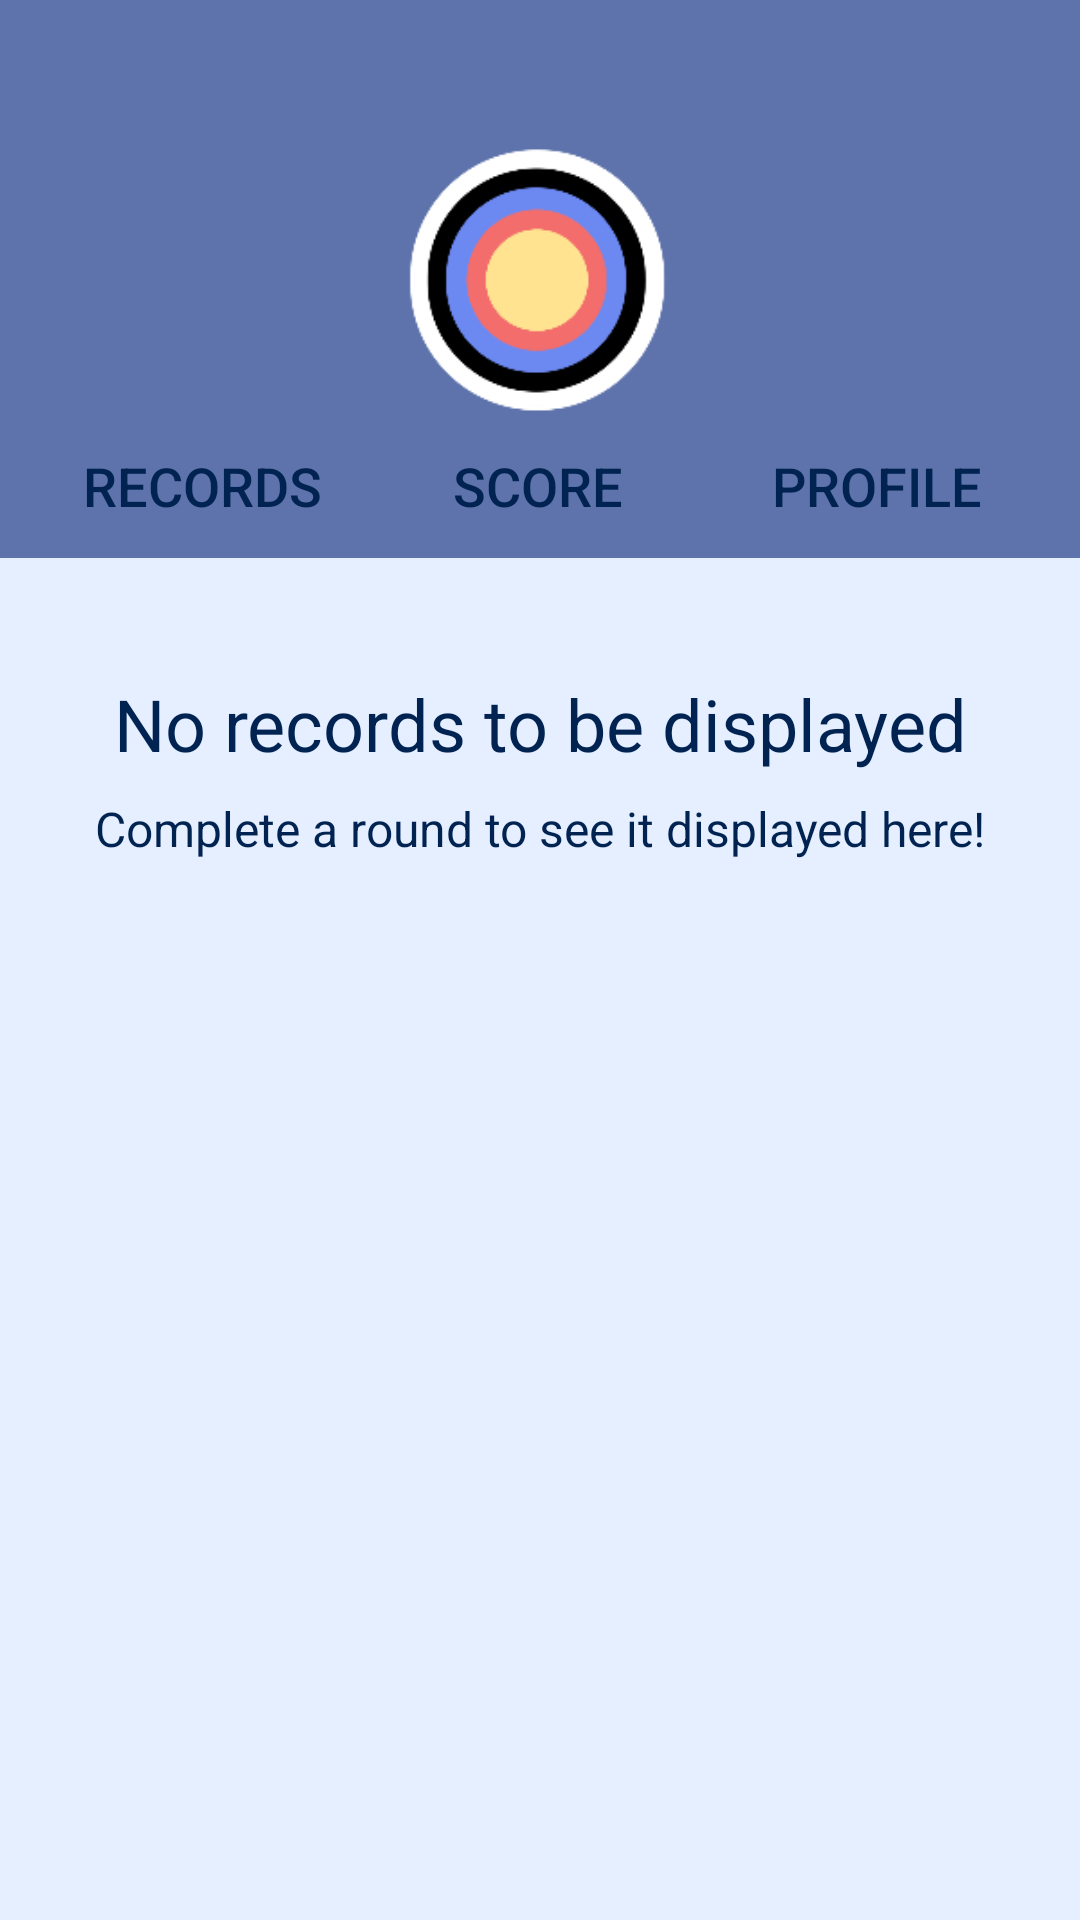

Named icons in this screenshot (1080w x 1920h) and their bounding boxes, (x1, y1, x2, y2):
target: (410, 149, 665, 411)
